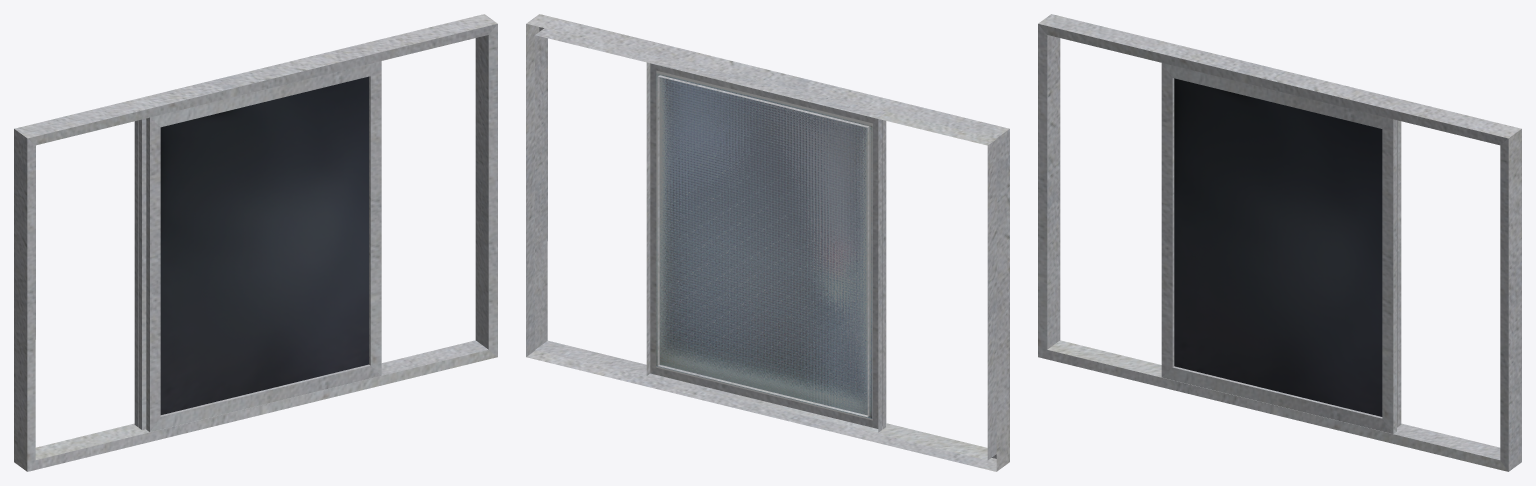
File: Window_1m_001.fbx
3 views of the same model, side by side, from view 1: azimuth 30°, elevation 25°; view 2: azimuth 150°, elevation 25°; view 3: azimuth 330°, elevation 25° (orthographic).
Visible parts, largest first — view 1: Window_1m_001; view 2: Window_1m_001; view 3: Window_1m_001.
Part boxes in pixels (x1,y1,x2,y2): Window_1m_001: (14,14,497,471); Window_1m_001: (526,14,1009,471); Window_1m_001: (1038,14,1521,471).
Bounding box in the file's own units: 148 × 100 × 7.28.
1 material, 1 textured.
